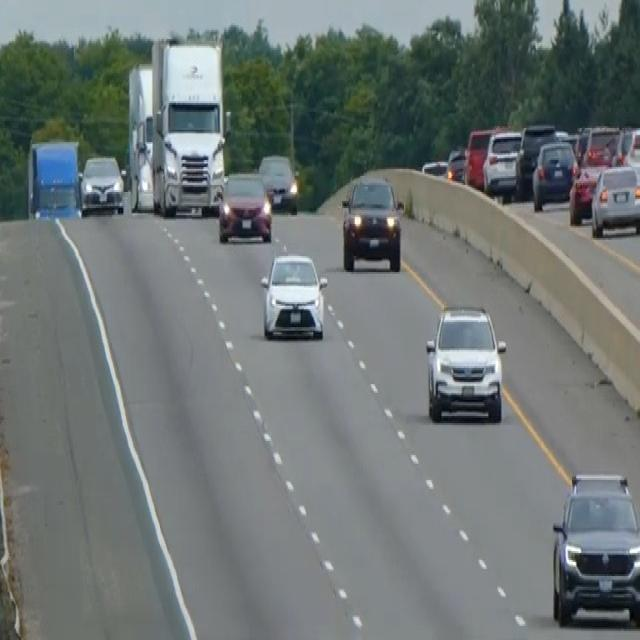car: (550, 468, 639, 628), (340, 172, 404, 272), (259, 251, 328, 341), (217, 169, 273, 243), (590, 162, 639, 238), (531, 137, 577, 210), (515, 121, 556, 195), (482, 128, 522, 199), (79, 153, 124, 215), (258, 151, 298, 213), (463, 125, 496, 187), (445, 146, 466, 183), (420, 156, 448, 178)
jeep: (424, 300, 507, 425)
lorry: (126, 35, 228, 217)
